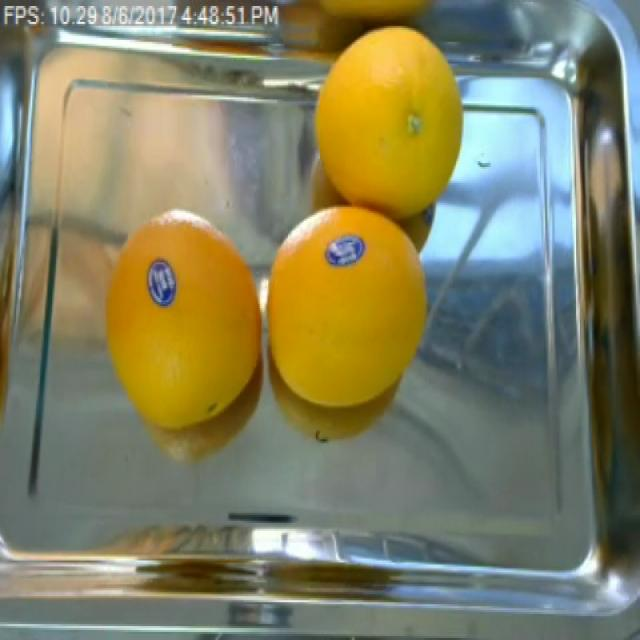Fruit: (299, 2, 481, 225)
